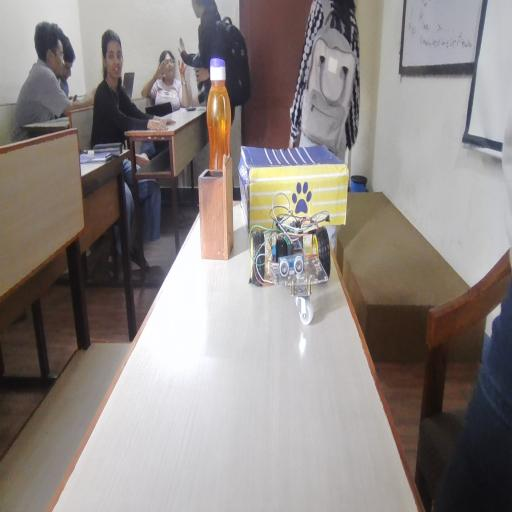Bottle: (200, 55, 251, 173)
car: (248, 218, 345, 323)
